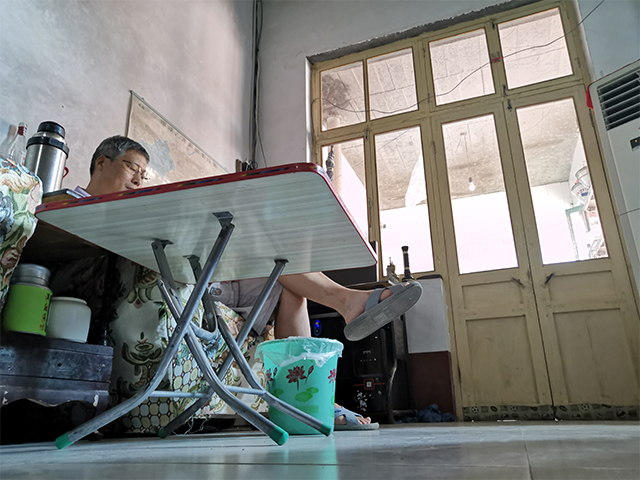table: (32, 160, 382, 452)
trashcan: (256, 335, 346, 437)
